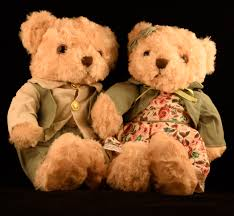teddy: (92, 18, 230, 202), (5, 10, 131, 193)
